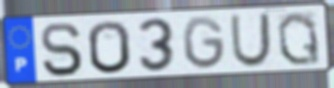3: (136, 16, 177, 74)
G: (180, 14, 227, 72)
O: (85, 19, 134, 76)
Q: (275, 9, 323, 68)
S: (39, 20, 85, 78)
U: (228, 11, 273, 69)
